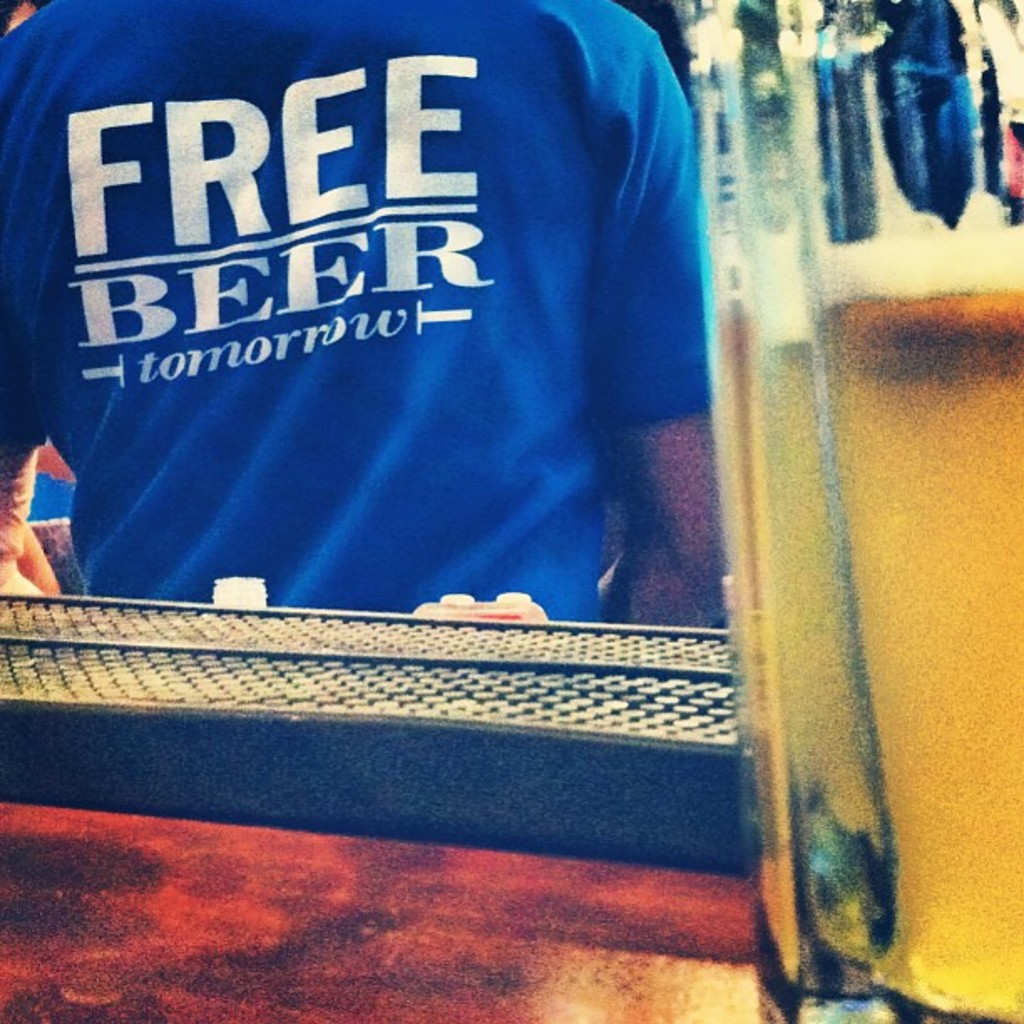Beer: (734, 122, 1020, 1020)
